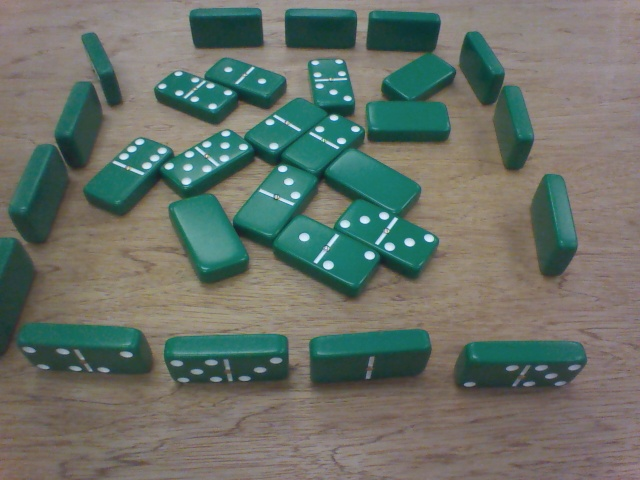A: (163, 192, 255, 286), (317, 140, 423, 220), (362, 98, 461, 145), (374, 51, 460, 102)
B: (323, 187, 439, 276), (267, 212, 380, 299), (159, 121, 260, 194), (87, 132, 168, 218), (239, 160, 315, 240), (281, 103, 366, 172), (145, 68, 239, 123), (203, 49, 285, 110), (247, 94, 314, 160), (300, 50, 357, 111)
C: (13, 137, 72, 236), (50, 75, 105, 161), (2, 235, 39, 361), (73, 32, 133, 105)
D: (523, 167, 582, 281), (484, 84, 537, 176), (450, 30, 506, 111)
E: (15, 317, 157, 391), (444, 332, 590, 396), (160, 326, 297, 391), (305, 326, 435, 389)
F: (181, 7, 270, 50), (279, 10, 363, 50), (365, 11, 445, 52)
